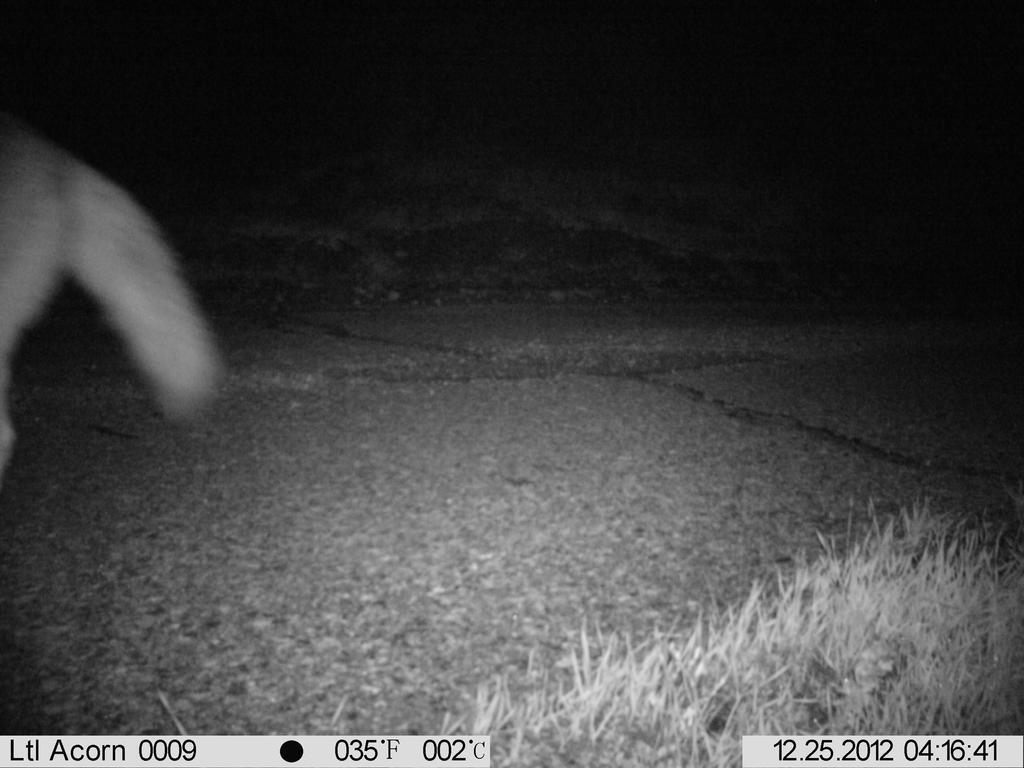coyote: (4, 114, 231, 511)
